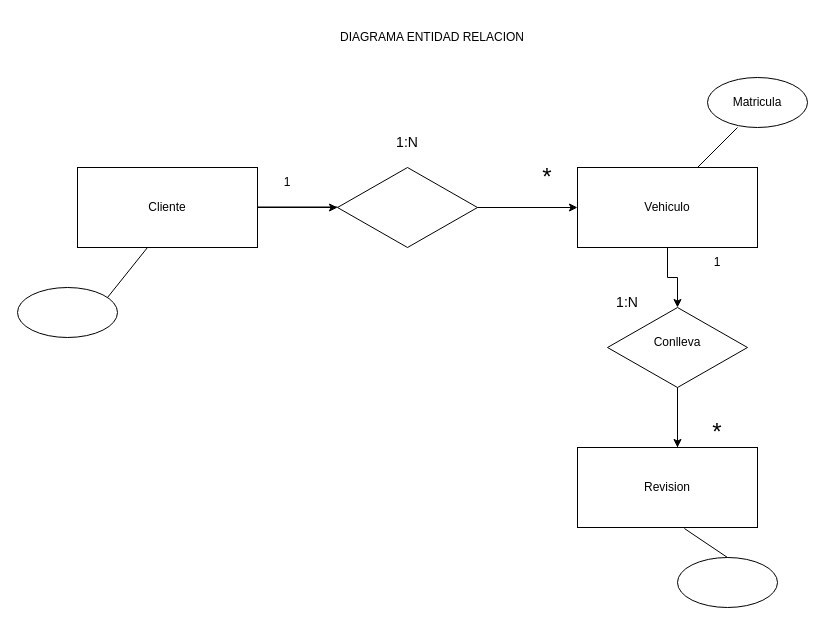
Image size: 825x625. Some labels were removed from this diagram. The box of each missing label's shape, as (x1, y1, x2, y2) in pixels:
Adquiere: (336, 166, 478, 248)
Codigo Interno: (16, 286, 118, 338)
Codigo Revision: (676, 556, 778, 608)
